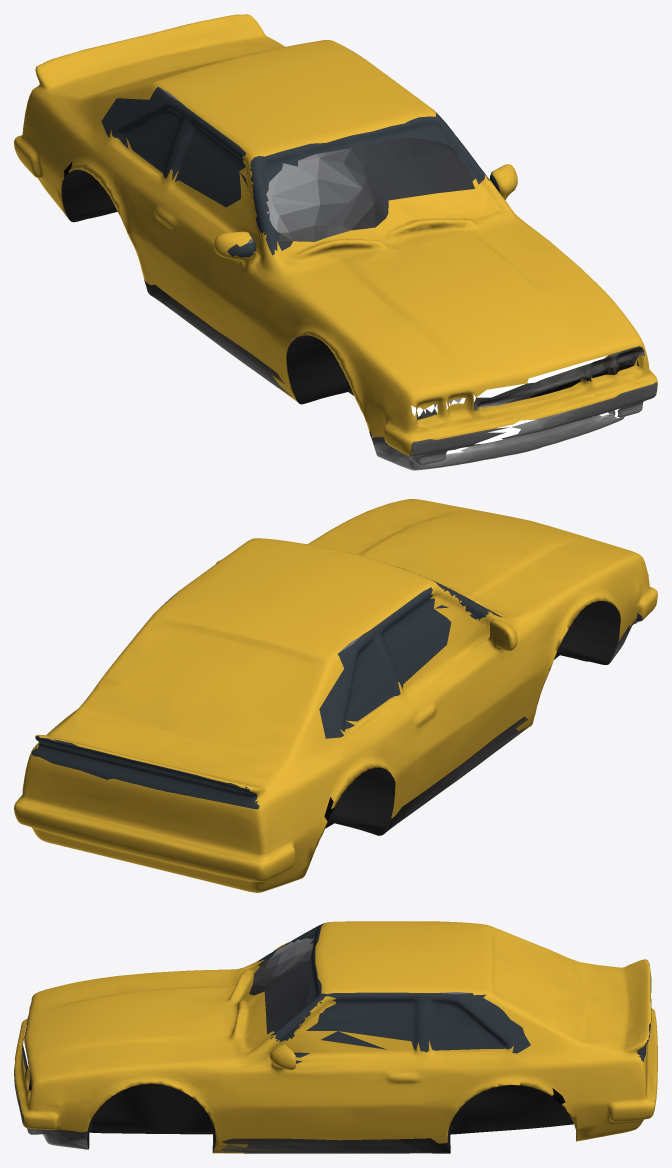
Rendered from falcon.glb.
3 renders of one model, top to bottom at view 1: azimuth 30°, elevation 25°; view 2: azimuth 150°, elevation 25°; view 3: azimuth 270°, elevation 25°, orthographic. The views are drawn at different scales.
Visible parts, largest first — view 1: body; view 2: body; view 3: body.
Part boxes in pixels (bbox=[...]): body: bbox=[14, 14, 657, 470]; body: bbox=[14, 499, 657, 892]; body: bbox=[14, 921, 657, 1153].
Bounding box in the file's own units: 1.82 × 1.16 × 4.25.
